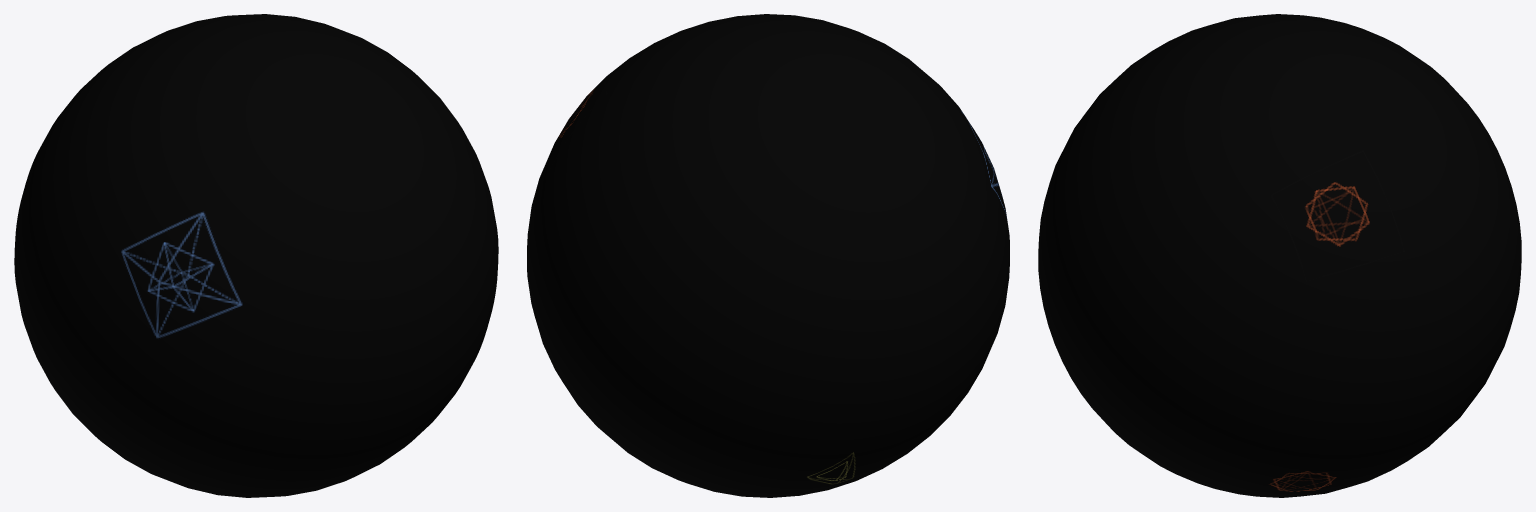
3 renders of one model, left to right at view 1: azimuth 30°, elevation 25°; view 2: azimuth 150°, elevation 25°; view 3: azimuth 270°, elevation 25°, orthographic.
Visible parts, largest first — view 1: Sphere003; view 2: Sphere003; view 3: Sphere003.
Part boxes in pixels (<box>): Sphere003: <box>14,14,498,497</box>; Sphere003: <box>527,14,1009,497</box>; Sphere003: <box>1038,14,1521,497</box>.
Size of the model in its own units: 6242 by 6241 by 6245.
Materials: 3 (3 with a texture image).
